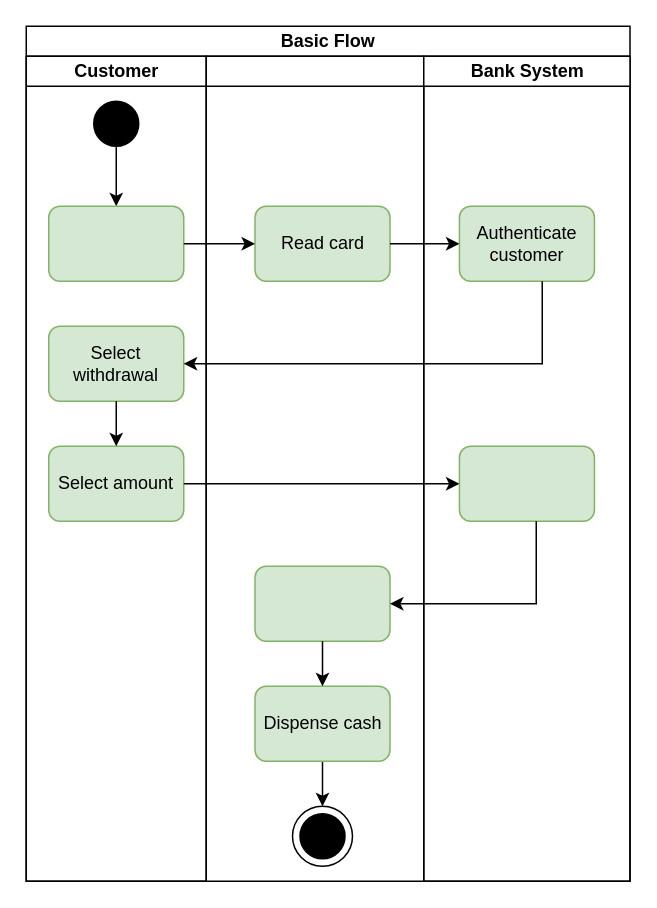
The diagram is 657 pixels wide and 908 high, and some of its shapes have lost their labels. Here are the shapes that lost their labels. From the top down, the box of each, then its label:
(47, 205, 184, 281): Insert card
(205, 55, 424, 881): ATM
(458, 445, 594, 521): Confirm withdrawal
(254, 565, 390, 641): Eject card
